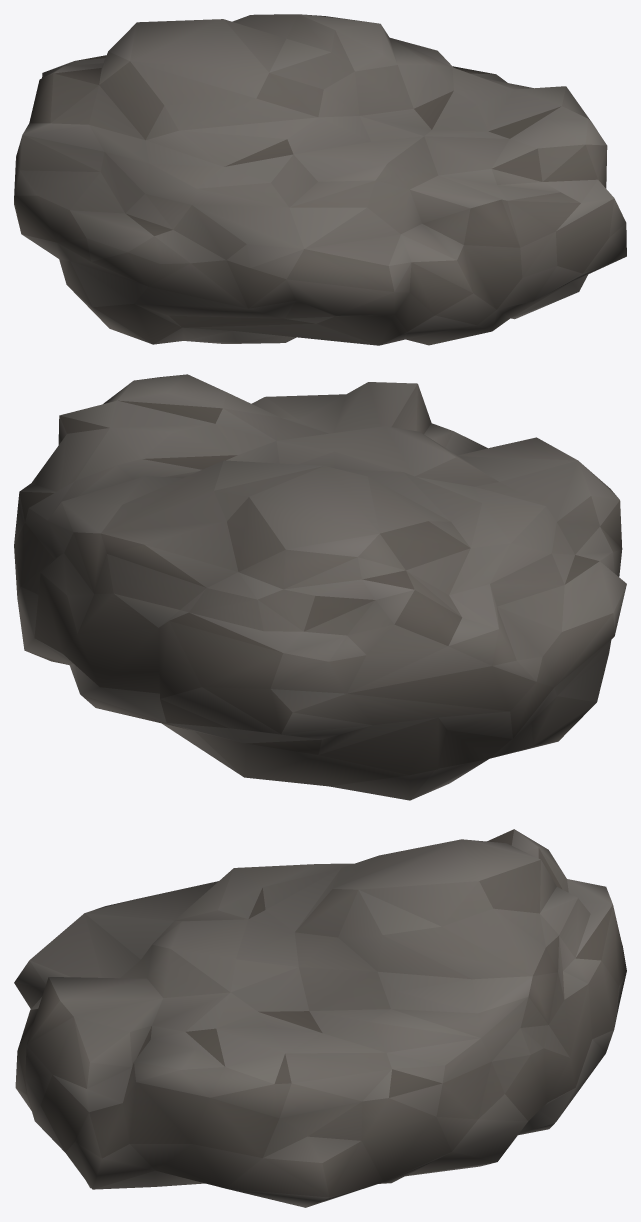
3 views of the same model, one above another, from view 1: azimuth 30°, elevation 25°; view 2: azimuth 150°, elevation 25°; view 3: azimuth 270°, elevation 25° (orthographic). The views are drawn at different scales.
Visible parts, largest first — view 1: Rock6_LP:polySurface1; view 2: Rock6_LP:polySurface1; view 3: Rock6_LP:polySurface1.
Boxes of the visible parts, box(x1,y1,x2,y2) form: Rock6_LP:polySurface1: box(14, 14, 626, 345); Rock6_LP:polySurface1: box(14, 374, 626, 800); Rock6_LP:polySurface1: box(14, 829, 626, 1207).
Bounding box in the file's own units: 0.1091 × 0.0485 × 0.1078.
